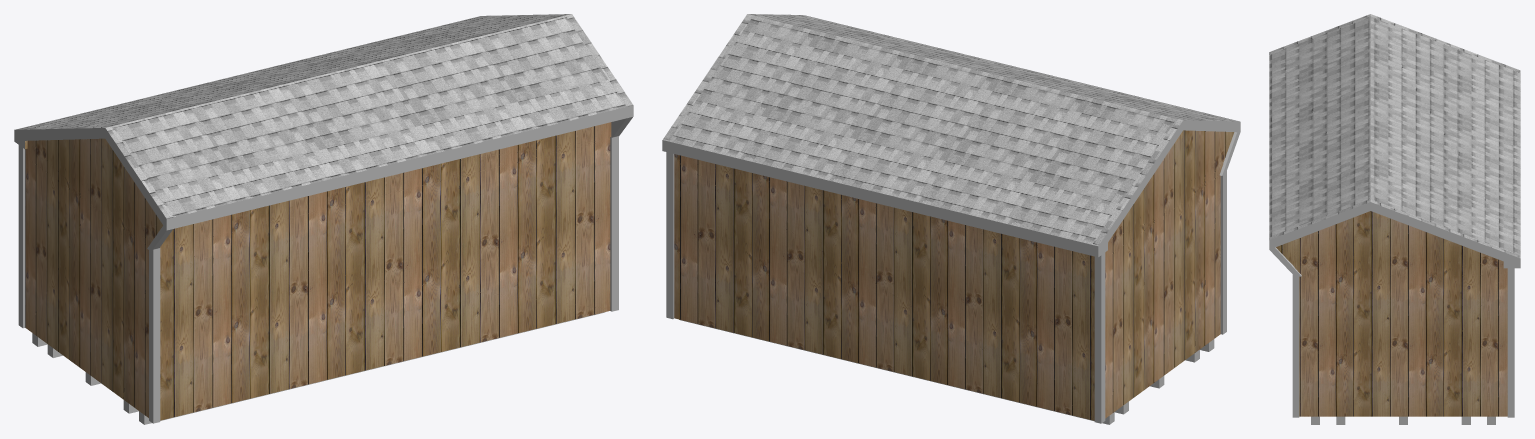
File: Quaker Sheds_8x16.obj
3 renders of one model, left to right at view 1: azimuth 30°, elevation 25°; view 2: azimuth 150°, elevation 25°; view 3: azimuth 270°, elevation 25°, orthographic. The views are drawn at different scales.
Parts seen in each view (by area): view 1: Shed, Roof, Sides, Trim, Floor; view 2: Shed, Roof, Sides, Trim, Floor; view 3: Roof, Shed, Sides, Trim, Floor.
Part boxes in pixels (x1,y1,x2,y2): Shed: (25, 122, 611, 420); Roof: (16, 14, 632, 218); Sides: (14, 105, 633, 251); Trim: (18, 136, 618, 423); Floor: (32, 312, 605, 424); Shed: (674, 130, 1234, 420); Roof: (663, 14, 1239, 245); Sides: (662, 120, 1240, 257); Trim: (666, 152, 1226, 423); Floor: (679, 319, 1214, 424); Roof: (1269, 14, 1520, 258); Shed: (1276, 211, 1507, 416); Sides: (1269, 202, 1520, 276); Trim: (1292, 268, 1514, 417); Floor: (1311, 416, 1495, 424).
Size of the model in its own units: 4.94 by 2.74 by 2.79.
